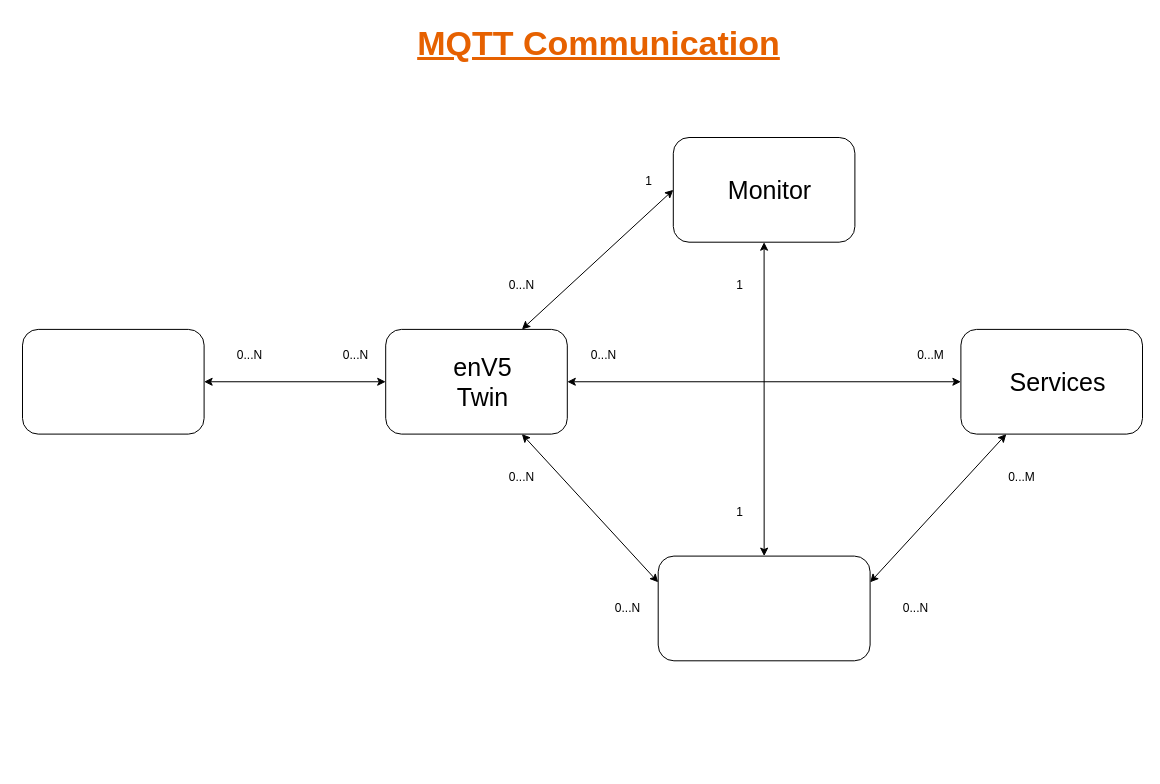
This 1160x784 diagram has some shape labels left out. The shapes that lost their labels are listed below. From the top down, each one's box as (x1, y1, x2, y2) in pixels, then its label:
(22, 328, 204, 434): enV5 Device
(657, 555, 870, 661): Composite Twin
